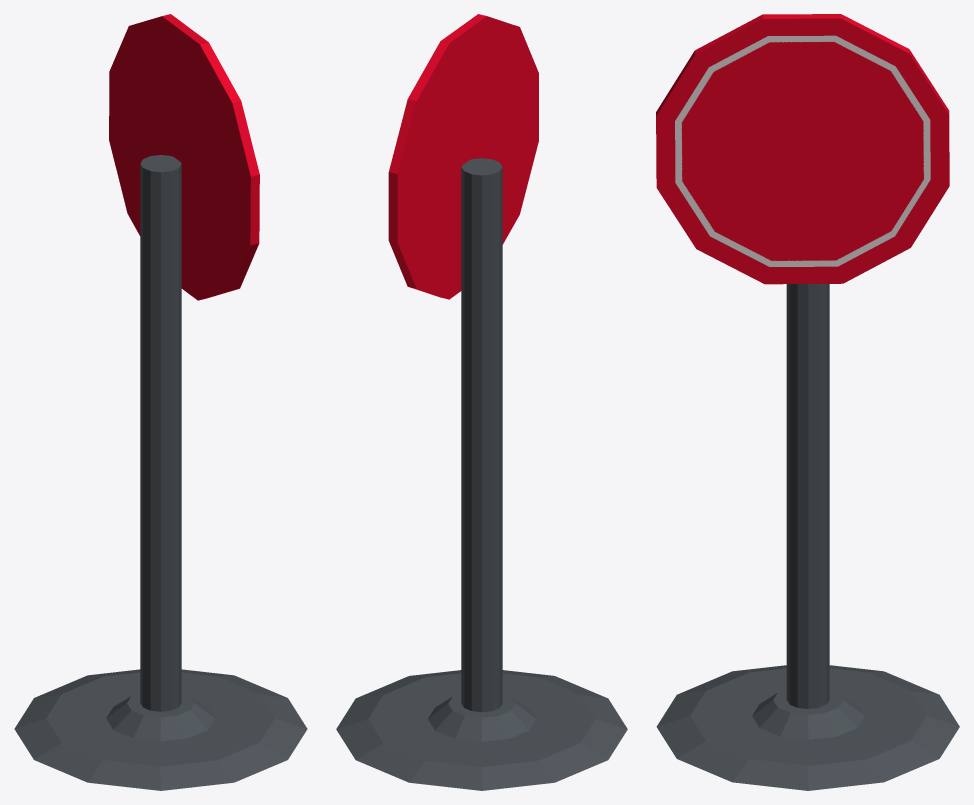
The model's file is Achtung 1.fbx.
3 renders of one model, left to right at view 1: azimuth 30°, elevation 25°; view 2: azimuth 150°, elevation 25°; view 3: azimuth 270°, elevation 25°, orthographic. The views are drawn at different scales.
Visible parts, largest first — view 1: Circle, Circle.001; view 2: Circle, Circle.001; view 3: Circle.001, Circle.
Boxes of the visible parts, <box> form: Circle: <box>14,155,307,790</box>; Circle.001: <box>109,14,259,300</box>; Circle: <box>336,158,627,790</box>; Circle.001: <box>388,14,538,299</box>; Circle.001: <box>656,14,949,284</box>; Circle: <box>656,284,959,790</box>.
Bounding box in the file's own units: 200 × 525 × 200.
